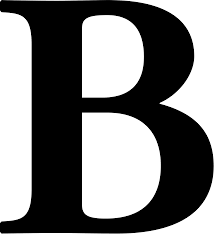B: (0, 0, 103, 205)
